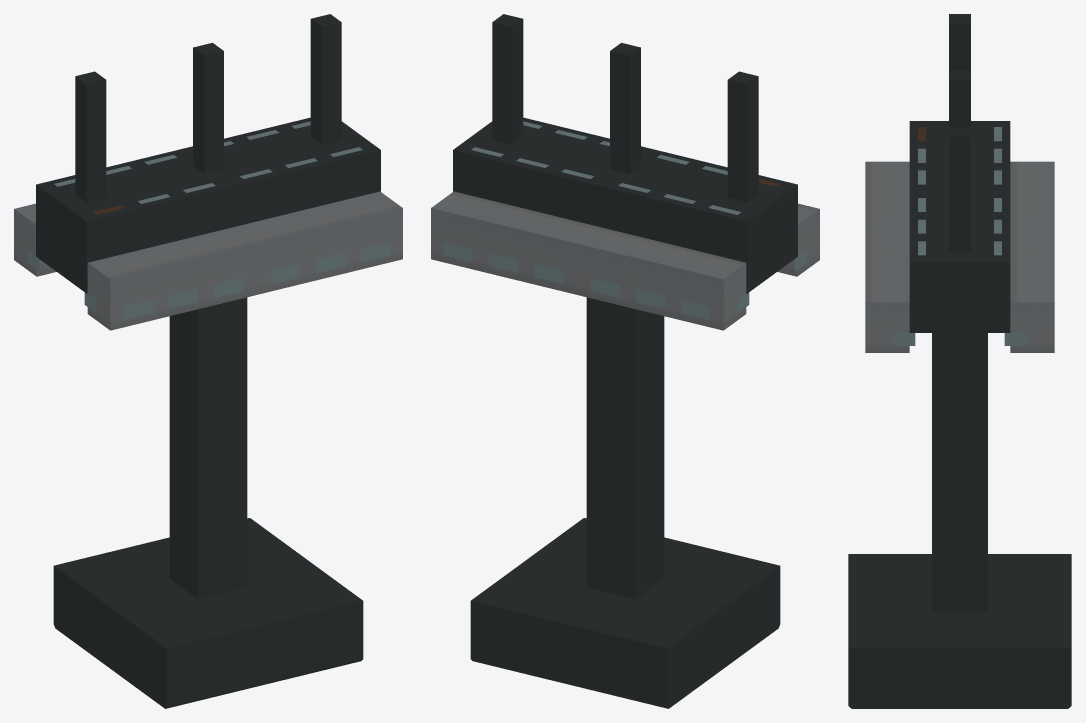
The model's file is kit_dressing_antenna.glb.
The picture shows the model from 3 angles, left to right: view 1: azimuth 30°, elevation 25°; view 2: azimuth 150°, elevation 25°; view 3: azimuth 270°, elevation 25°; orthographic projection.
Visible parts, largest first — view 1: lod0; view 2: lod0; view 3: lod0.
Part boxes in pixels (x1=…): lod0: x1=14, y1=14, x2=402, y2=708; lod0: x1=431, y1=14, x2=819, y2=708; lod0: x1=848, y1=14, x2=1071, y2=708.
Size of what is drawn, in the model's own units: 30 by 58.04 by 20.
1 material, 1 textured.
